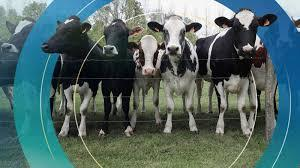cow: (198, 10, 277, 138), (43, 19, 102, 139), (146, 16, 203, 134), (97, 19, 146, 139), (125, 35, 167, 127)
